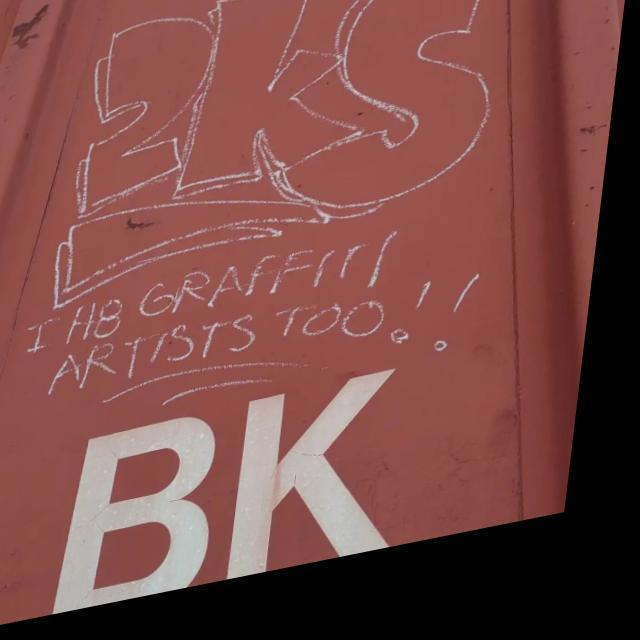nonspitting: (27, 0, 492, 408)
